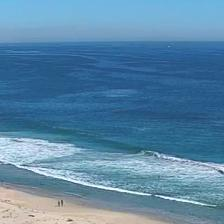surfer: (158, 175, 160, 178)
